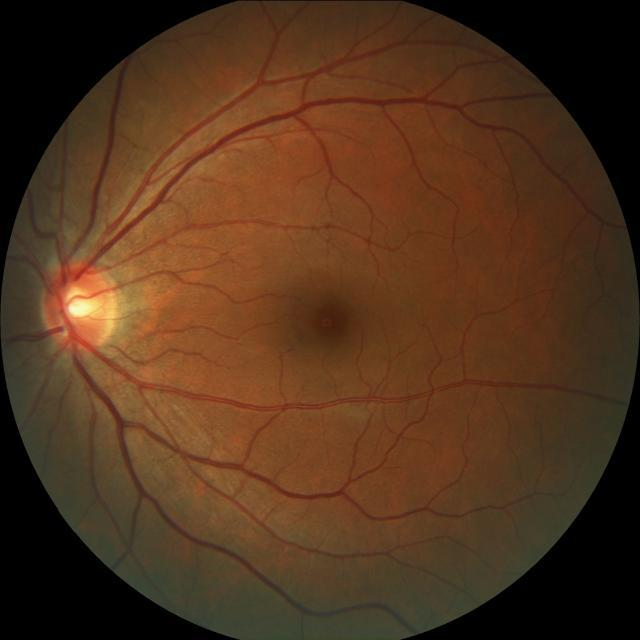OC: (62, 284, 99, 322)
OD: (42, 258, 121, 350)
